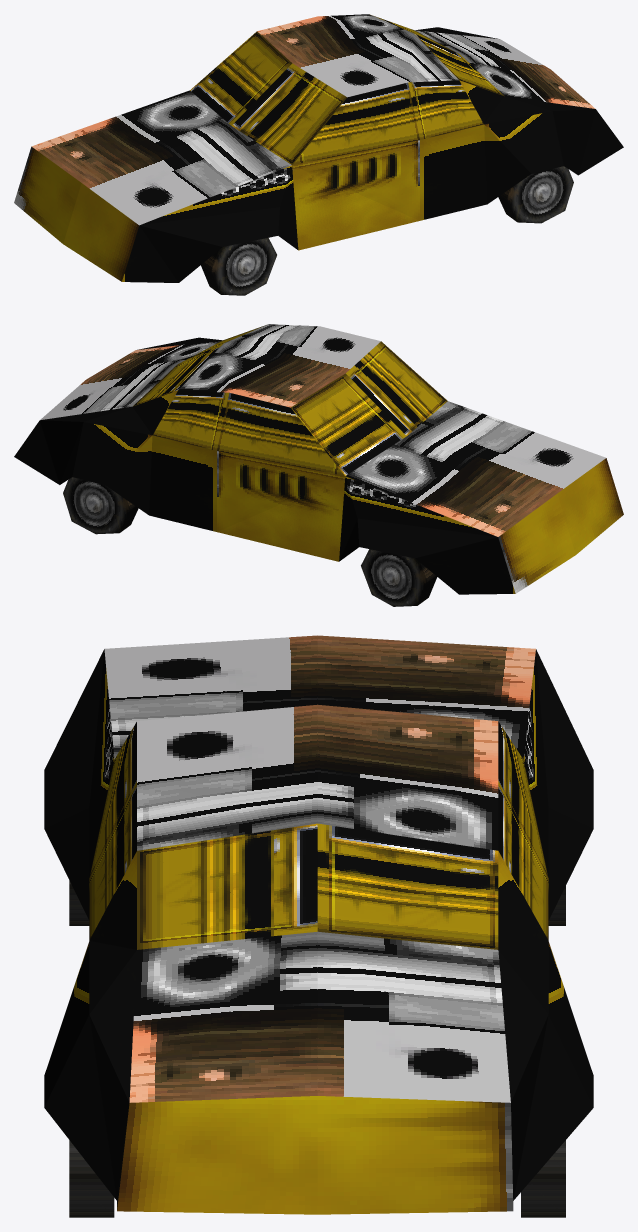
3 renders of one model, top to bottom at view 1: azimuth 30°, elevation 25°; view 2: azimuth 150°, elevation 25°; view 3: azimuth 270°, elevation 25°, orthographic. The views are drawn at different scales.
Parts seen in each view (by area): view 1: prim148-civi car02; view 2: prim148-civi car02; view 3: prim148-civi car02.
Part boxes in pixels (bbox=[...]): prim148-civi car02: bbox=[14, 14, 623, 295]; prim148-civi car02: bbox=[14, 324, 623, 606]; prim148-civi car02: bbox=[44, 635, 593, 1217].
Size of the model in its own units: 471 by 141 by 219.
6 materials, 6 textured.
